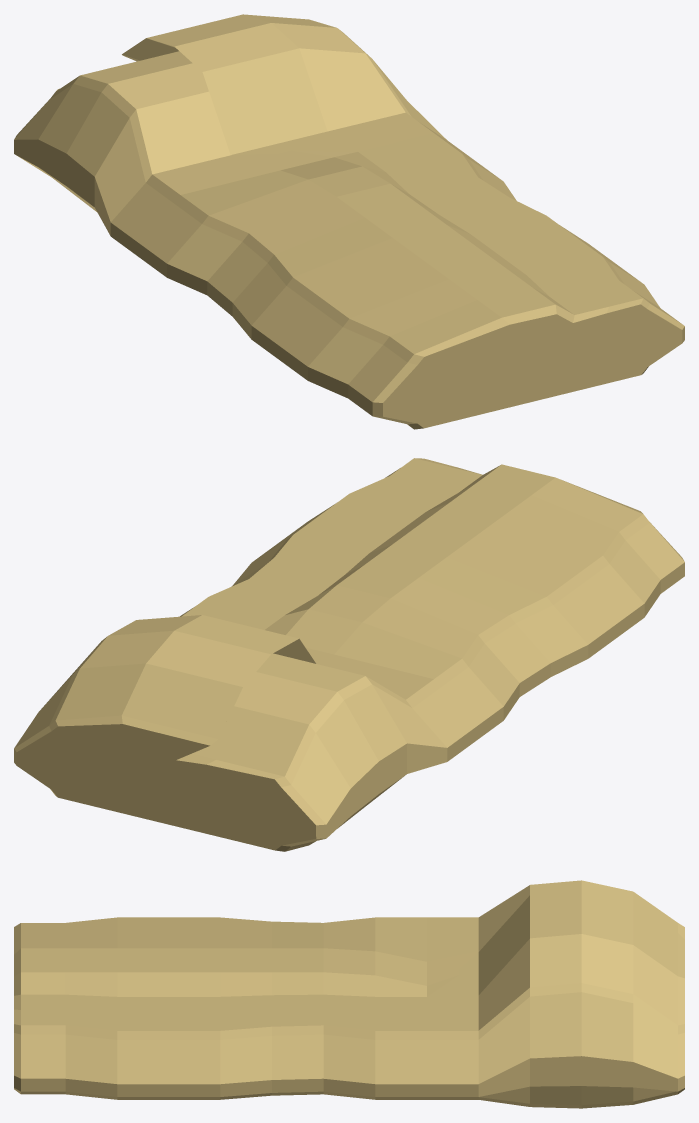
File: tallow_heavy_a.glb
The picture shows the model from 3 angles, top to bottom: view 1: azimuth 30°, elevation 25°; view 2: azimuth 150°, elevation 25°; view 3: azimuth 270°, elevation 25°; orthographic projection. The views are drawn at different scales.
Visible parts, largest first — view 1: tallow_heavy_a; view 2: tallow_heavy_a; view 3: tallow_heavy_a.
Boxes of the visible parts, <box> form: tallow_heavy_a: <box>14,14,684,429</box>; tallow_heavy_a: <box>14,458,684,851</box>; tallow_heavy_a: <box>14,880,684,1108</box>.
Size of the model in its own units: 4.3 by 1.93 by 8.1.
